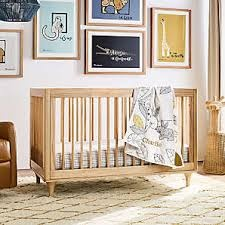crib: (30, 87, 197, 198)
